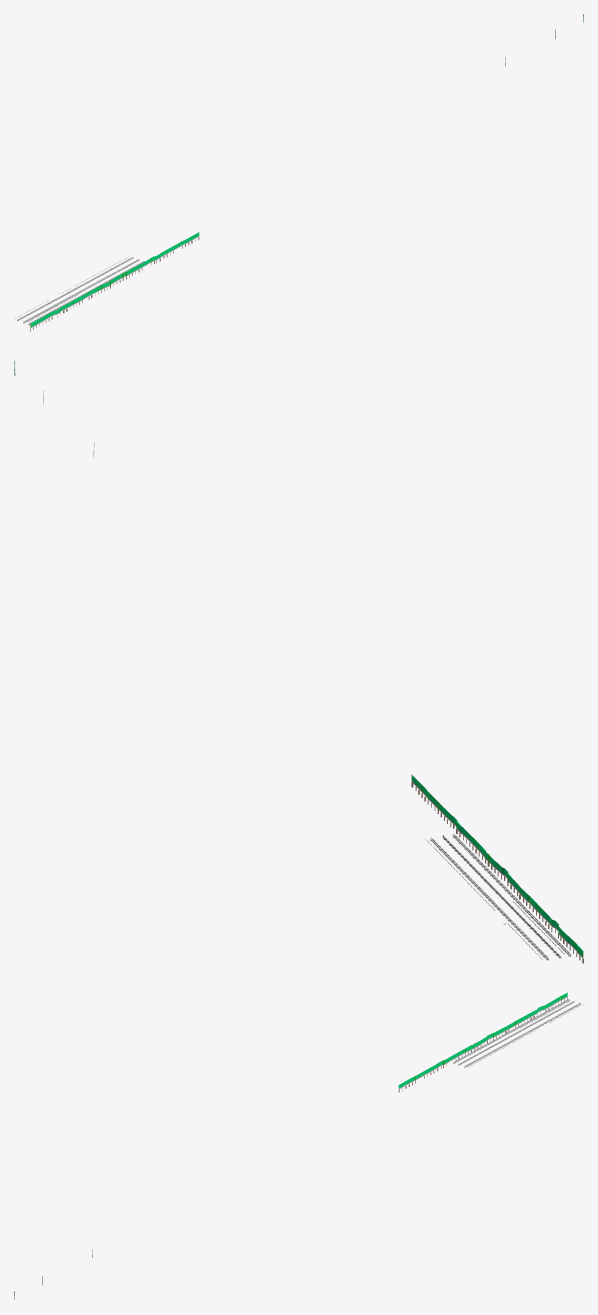
3 renders of one model, top to bottom at view 1: azimuth 90°, elevation 25°; view 2: azimuth 150°, elevation 25°; view 3: azimuth 270°, elevation 25°, orthographic. The views are drawn at different scales.
Bounding box in the file's own units: 705 × 14.38 × 558.
